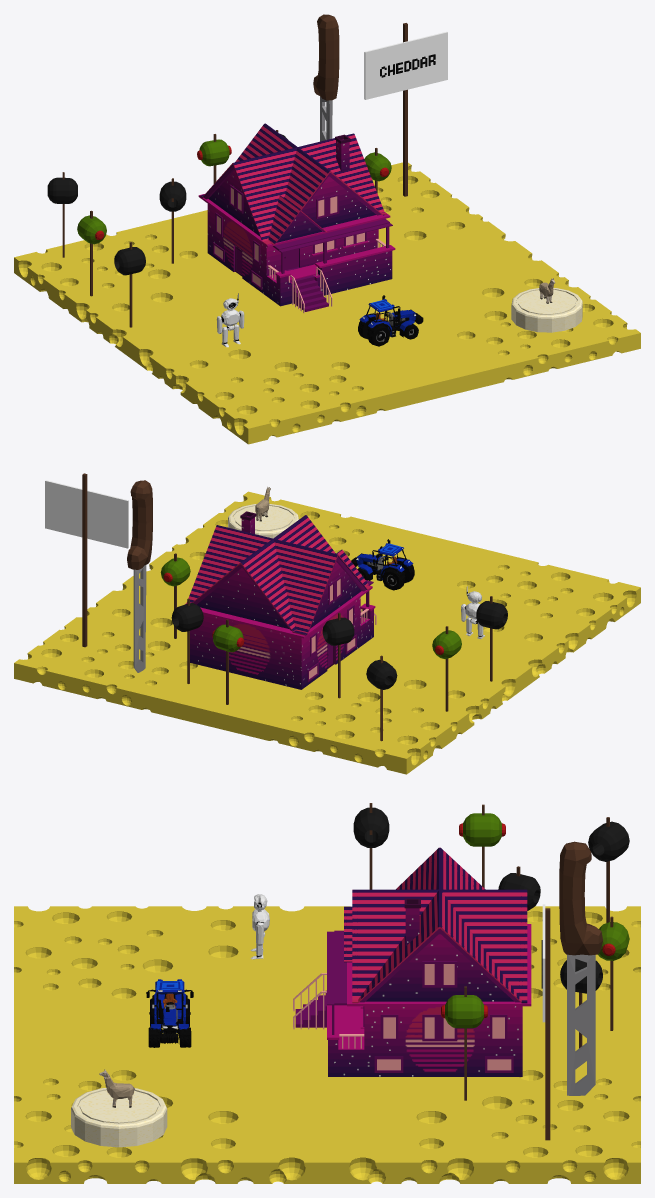
The picture shows the model from 3 angles, top to bottom: view 1: azimuth 30°, elevation 25°; view 2: azimuth 150°, elevation 25°; view 3: azimuth 270°, elevation 25°; orthographic projection. The views are drawn at different scales.
Parts seen in each view (by area): view 1: Cube.022, Cube.156, Cube.023, Cylinder.016, Cube.024, VEHICLES_TRACTOR, Sphere.017, Sphere.016, OBJRANDOM_PLATZEEBOT, Sphere.020, Sphere.018, Sphere.022 (+1 smaller); view 2: Cube.022, Cube.156, Cube.023, Cube.024, VEHICLES_TRACTOR, Cylinder.016, Sphere.017, Sphere.020, Sphere.021, Sphere.016, Sphere.018, Sphere.022 (+2 smaller); view 3: Cube.022, Cube.156, Cube.024, Cylinder.016, VEHICLES_TRACTOR, Cube.023, Sphere.019, Sphere.016, Sphere.018, Sphere.017, Sphere.022, Sphere.020 (+3 smaller).
Part boxes in pixels (x1=…): Cube.022: x1=14, y1=162, x2=640, y2=444; Cube.156: x1=198, y1=123, x2=395, y2=313; Cube.023: x1=364, y1=23, x2=447, y2=196; Cylinder.016: x1=511, y1=288, x2=582, y2=332; Cube.024: x1=313, y1=14, x2=339, y2=141; VEHICLES_TRACTOR: x1=358, y1=295, x2=423, y2=346; Sphere.017: x1=114, y1=242, x2=145, y2=327; Sphere.016: x1=47, y1=172, x2=77, y2=257; OBJRANDOM_PLATZEEBOT: x1=216, y1=293, x2=244, y2=347; Sphere.020: x1=159, y1=178, x2=186, y2=263; Sphere.018: x1=77, y1=210, x2=106, y2=296; Sphere.022: x1=197, y1=134, x2=231, y2=183; Cube.022: x1=14, y1=491, x2=640, y2=774; Cube.156: x1=185, y1=511, x2=376, y2=689; Cube.023: x1=45, y1=473, x2=128, y2=647; Cube.024: x1=127, y1=480, x2=152, y2=672; VEHICLES_TRACTOR: x1=351, y1=539, x2=414, y2=590; Cylinder.016: x1=228, y1=503, x2=298, y2=538; Sphere.017: x1=476, y1=596, x2=507, y2=681; Sphere.020: x1=322, y1=612, x2=354, y2=698; Sphere.021: x1=171, y1=598, x2=203, y2=683; Sphere.016: x1=366, y1=655, x2=397, y2=741; Sphere.018: x1=432, y1=626, x2=461, y2=711; Sphere.022: x1=212, y1=619, x2=244, y2=704; Cube.022: x1=14, y1=906, x2=640, y2=1183; Cube.156: x1=293, y1=847, x2=531, y2=1076; Cube.024: x1=559, y1=841, x2=602, y2=1095; Cylinder.016: x1=71, y1=1088, x2=167, y2=1147; VEHICLES_TRACTOR: x1=146, y1=979, x2=193, y2=1047; Cube.023: x1=541, y1=904, x2=550, y2=1140; Sphere.019: x1=441, y1=986, x2=487, y2=1100; Sphere.016: x1=588, y1=817, x2=629, y2=922; Sphere.018: x1=459, y1=804, x2=505, y2=887; Sphere.017: x1=353, y1=803, x2=389, y2=889; Sphere.022: x1=598, y1=916, x2=629, y2=1030; Sphere.020: x1=498, y1=866, x2=540, y2=910.
Size of the model in its own units: 3917 by 2007 by 4000.
Materials: 37 (5 with a texture image).
